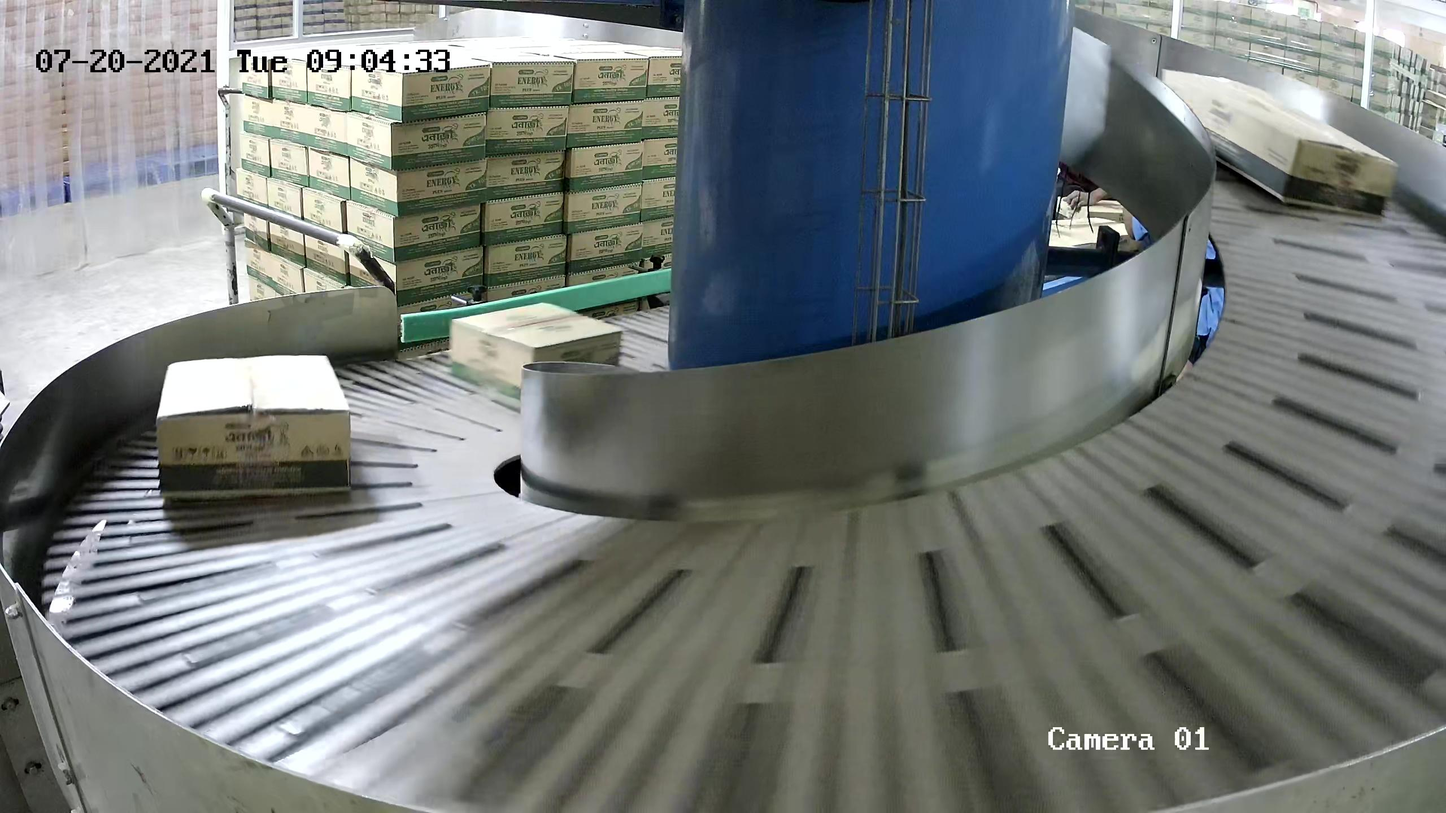Box: (1159, 67, 1398, 219), (155, 354, 352, 498), (448, 302, 626, 398)
